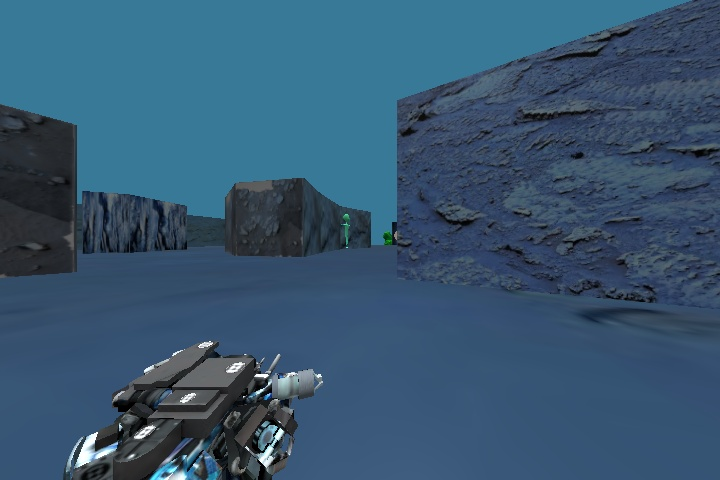green_alien: (332, 209, 354, 251)
